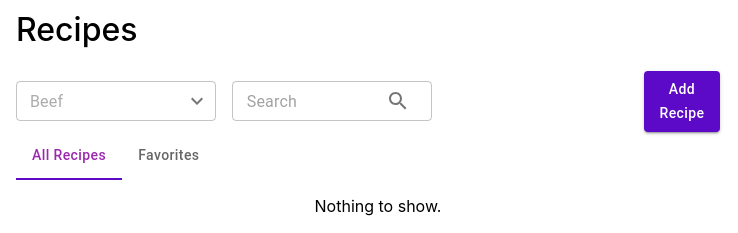
it: HomePage test suite › HomePage should handle tab change
Expected: the panel with test id "allTabPanel" is shown, [314,196,441,216]
Click the tab with test id "favTab".
click(169, 156)  # box [122,132,216,180]
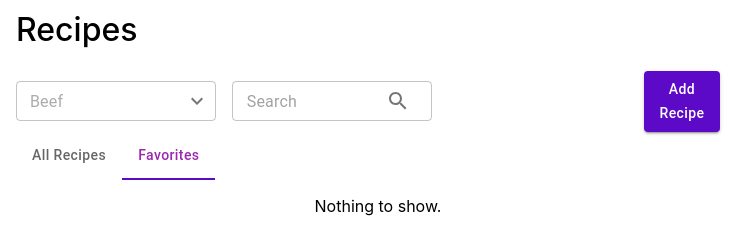
Expected: the panel with test id "favTabPanel" is shown, [314,196,441,216]
Now the panel with test id "allTabPanel" is gone
